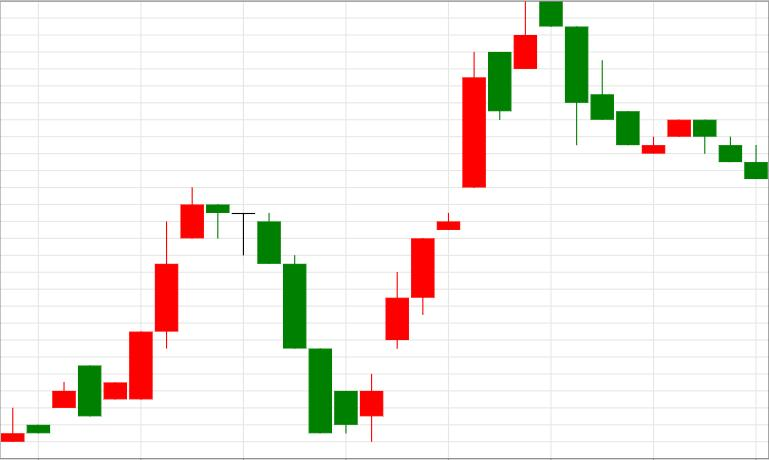three_black_crows_fall: (104, 187, 332, 434)
three_white_soldiers_rise: (206, 204, 435, 442)
